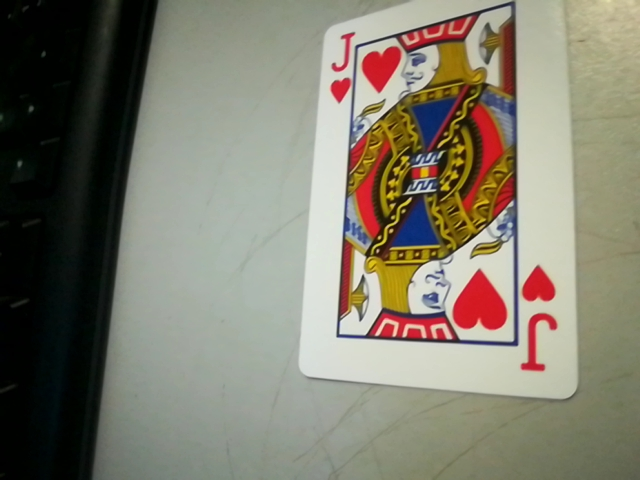hx j: (511, 262, 573, 382)
